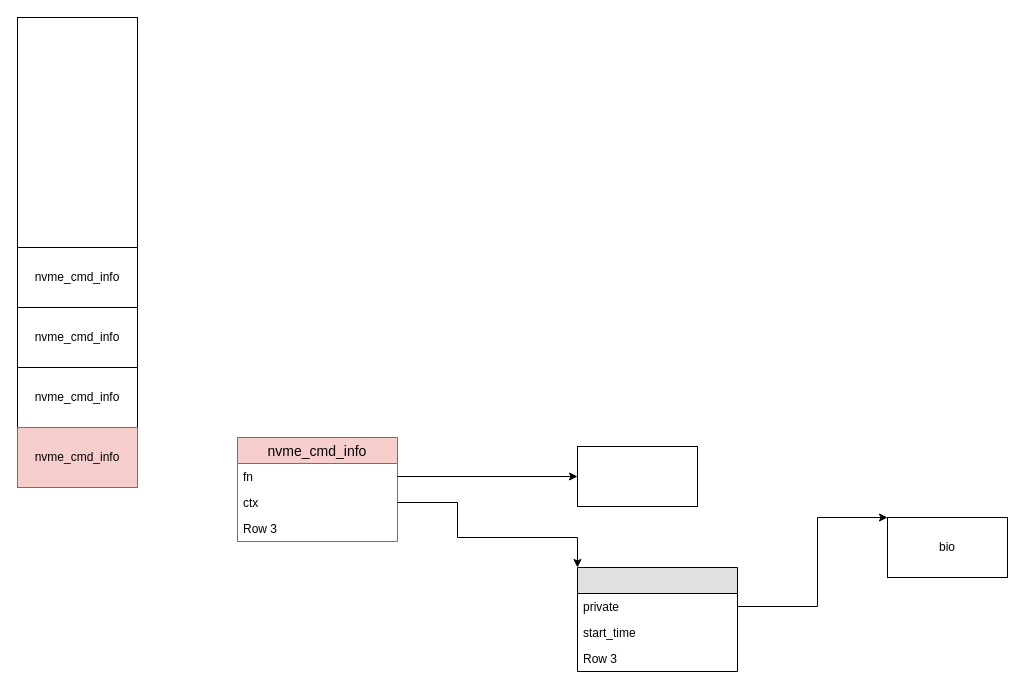
Some shapes in this 1025 by 692 pixel diagram are drawn without their labels. The shapes that lost their labels are listed below. From the top down, each one's box as (x1, y1, x2, y2) in pixels, then its label:
(16, 16, 138, 248): nvme_queue
(576, 446, 698, 506): bio_completion
(576, 566, 738, 672): iod
